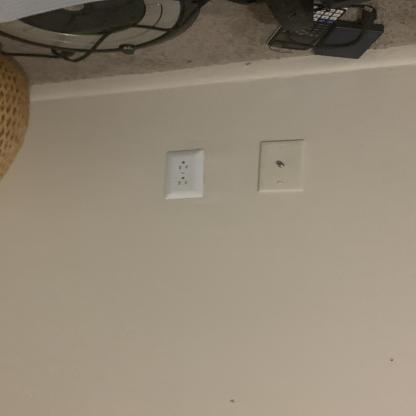OUTLET: (166, 151, 204, 199)
